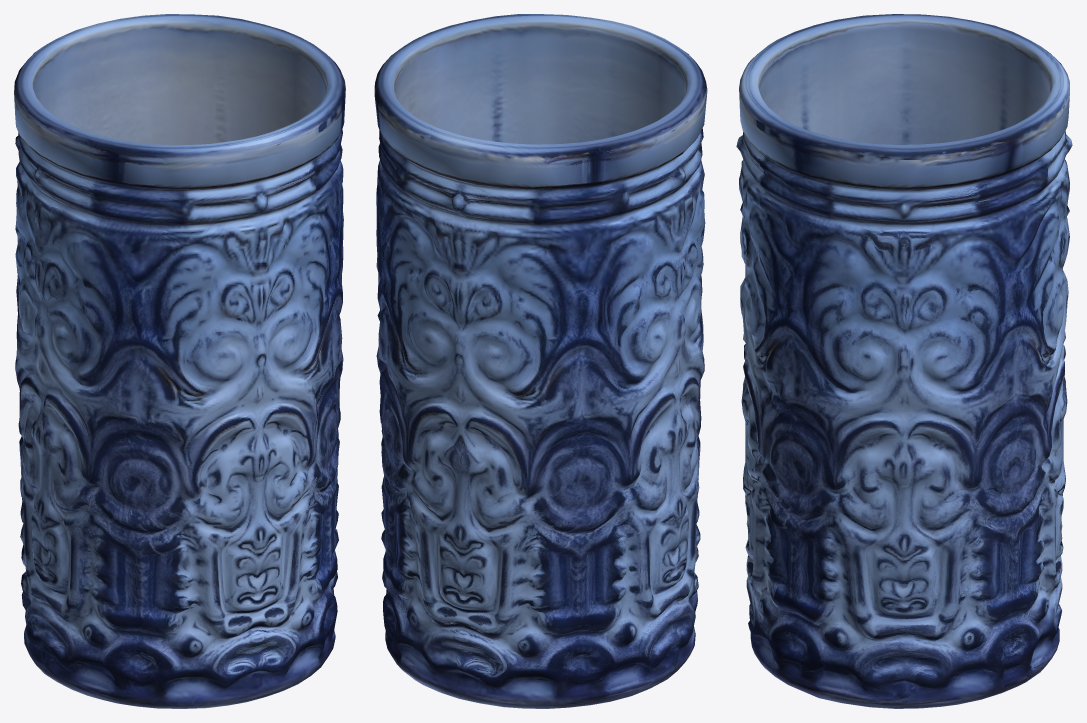
The model's file is Glass_Jax_Blue_14oz_10InchTall_Tabletop_0222193806_texture.glb.
3 views of the same model, side by side, from view 1: azimuth 30°, elevation 25°; view 2: azimuth 150°, elevation 25°; view 3: azimuth 270°, elevation 25° (orthographic).
Visible parts, largest first — view 1: Mesh_0; view 2: Mesh_0; view 3: Mesh_0.
Part boxes in pixels (x1,y1,x2,y2): Mesh_0: [14, 14, 345, 708]; Mesh_0: [374, 14, 707, 708]; Mesh_0: [736, 14, 1072, 708].
Bounding box in the file's own units: 0.134 × 0.254 × 0.1361.
1 material, 1 textured.
